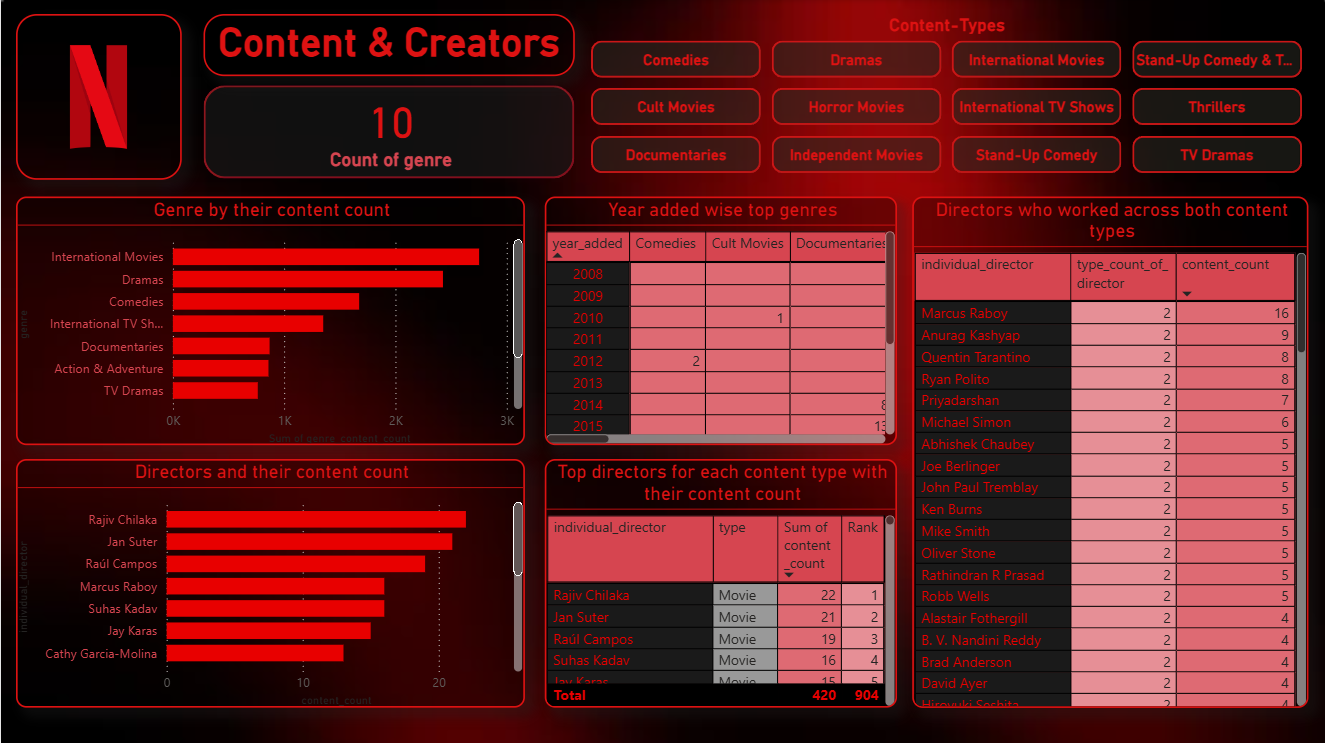

What the dashboard file says about the page in this screenshot:
{"tool":"powerbi","page":{"name":"Content & Creators","canvas":[1280,720],"ordinal":3},"visuals":[{"type":"image","box":[14.3,14.3,160,160],"z":0},{"type":"cardVisual","fields":{"Data":["Count(3_top_genres(5).genre)"]},"box":[195.4,83.2,358.3,90.5],"z":1000},{"type":"shape","box":[195.4,14.5,358.3,60.3],"z":2000},{"type":"textbox","box":[195.4,14.5,358.3,60.3],"z":3000},{"type":"advancedSlicerVisual","title":"Content-Types","fields":{"Values":["3_top_genres_for_each_year(6).genre"]},"box":[564.6,14.5,697.3,160.5],"z":4000},{"type":"clusteredBarChart","title":"Genre by their content count","fields":{"Category":["3_top_genres(5).genre"],"Y":["Sum(3_top_genres(5).genre_content_count)"]},"box":[14.5,190.6,491,240.1],"z":5000},{"type":"pivotTable","title":"Year added wise top genres","fields":{"Rows":["3_top_genres_for_each_year(6).year_added"],"Columns":["3_top_genres_for_each_year(6).genre"],"Values":["Sum(3_top_genres_for_each_year(6).genre_content_count_for_year)"]},"box":[524.8,190.6,340.2,240.1],"z":6000},{"type":"clusteredBarChart","title":"Directors and their content count","fields":{"Category":["4_top_directors(7).individual_director"],"Y":["Sum(4_top_directors(7).content_count)"]},"box":[14.5,444,491,240.1],"z":7000},{"type":"tableEx","title":"Top directors for each content type with their content count","fields":{"Values":["4_top_directors_for_each_content_type(8).individual_director","4_top_directors_for_each_content_type(8).type","Sum(4_top_directors_for_each_content_type(8).content_count)","Sum(4_top_directors_for_each_content_type(8).director_rnk)"]},"box":[524.8,444,340.2,240.1],"z":8000},{"type":"tableEx","title":"Directors who worked across both content types","fields":{"Values":["4_top_directors_working_both_content_types(9).individual_director","4_top_directors_working_both_content_types(9).type_count_of_director","4_top_directors_working_both_content_types(9).content_count"]},"box":[879.5,190.6,382.4,493.4],"z":9000}]}

Visuals, with their boxes in screenshot pixels (x1, y1, x2, y2), scaled from the page's 1280x720 canvas onto the 1325x743 screenshot:
image: x1=15 y1=15 x2=180 y2=180
cardVisual - Count(3_top_genres(5).genre): x1=202 y1=86 x2=573 y2=179
shape: x1=202 y1=15 x2=573 y2=77
textbox: x1=202 y1=15 x2=573 y2=77
"Content-Types" advancedSlicerVisual: x1=584 y1=15 x2=1306 y2=181
"Genre by their content count" clusteredBarChart: x1=15 y1=197 x2=523 y2=444
"Year added wise top genres" pivotTable: x1=543 y1=197 x2=895 y2=444
"Directors and their content count" clusteredBarChart: x1=15 y1=458 x2=523 y2=706
"Top directors for each content type with their content count" tableEx: x1=543 y1=458 x2=895 y2=706
"Directors who worked across both content types" tableEx: x1=910 y1=197 x2=1306 y2=706
